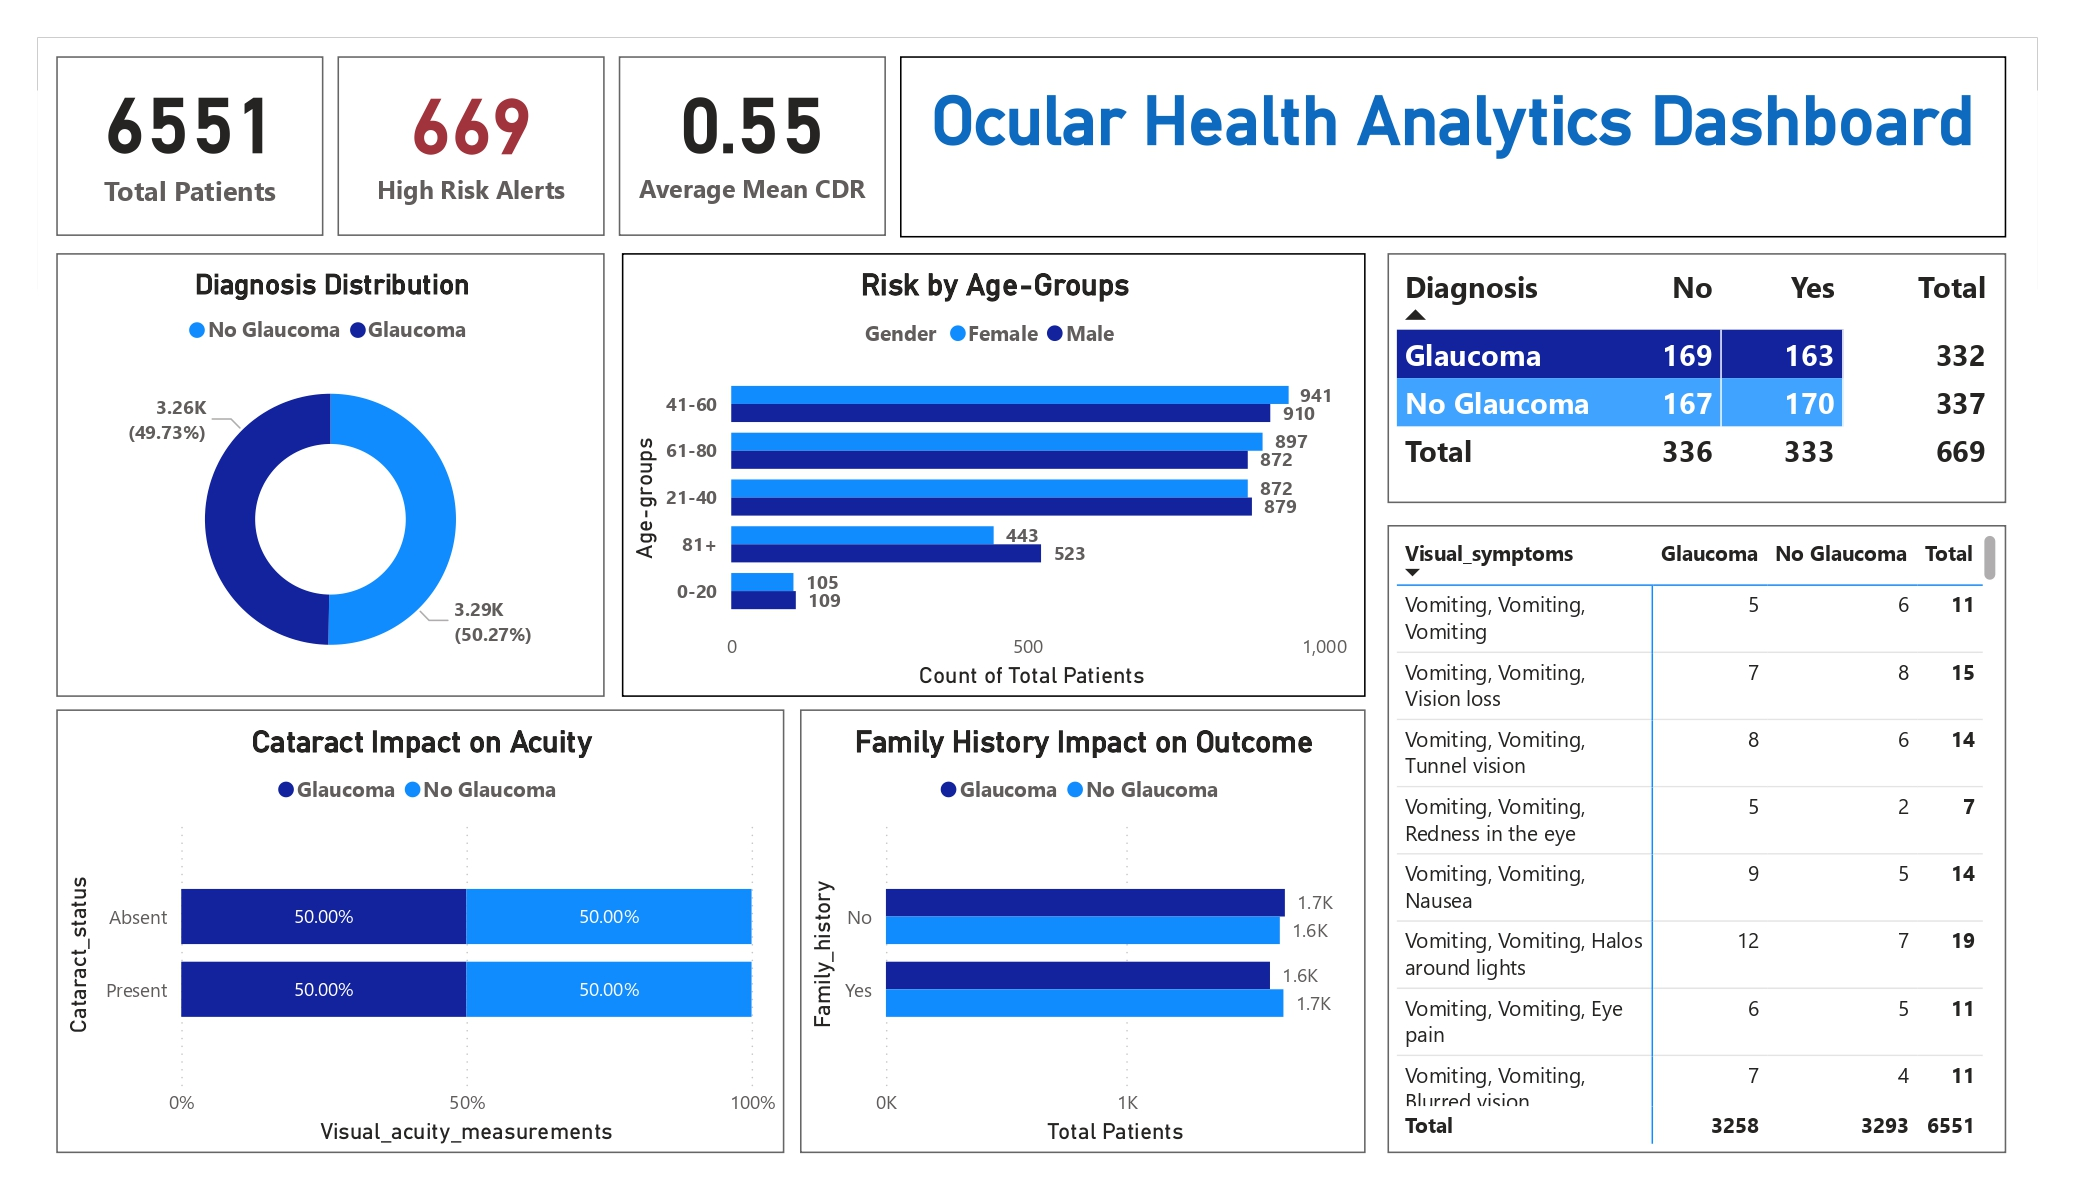

The page's visual inventory and layout, read from the dashboard file:
{"tool":"powerbi","page":{"name":"Page 1","canvas":[1280,720],"ordinal":0},"visuals":[{"type":"card","fields":{"Values":["Count(cleaned_ocular_health_data.patient_id)"]},"box":[11.7,11.7,171.7,115],"z":0},{"type":"card","fields":{"Values":["Avg(cleaned_ocular_health_data.cup-to-disc_ratio_(cdr))"]},"box":[371.7,11.7,171.7,115],"z":1000},{"type":"card","fields":{"Values":["cleaned_ocular_health_data.High Risk Alerts"]},"box":[191.7,11.7,171.7,115],"z":2000},{"type":"donutChart","title":"Diagnosis Distribution","fields":{"Category":["cleaned_ocular_health_data.diagnosis"],"Y":["CountNonNull(cleaned_ocular_health_data.diagnosis)"]},"box":[11.7,138.3,351.7,283.3],"z":3000},{"type":"clusteredBarChart","title":"Risk by Age-Groups","fields":{"Y":["Count(cleaned_ocular_health_data.Total Patients)"],"Category":["cleaned_ocular_health_data.age_group"],"Series":["cleaned_ocular_health_data.gender"]},"box":[374,138,476,284],"z":4000},{"type":"textbox","box":[551.7,11.7,708.3,116.7],"z":5000},{"type":"pivotTable","fields":{"Rows":["cleaned_ocular_health_data.diagnosis"],"Columns":["cleaned_ocular_health_data.family_history"],"Values":["cleaned_ocular_health_data.High Risk Alerts"]},"box":[864,138,396,160],"z":6000},{"type":"pivotTable","fields":{"Rows":["cleaned_ocular_health_data.visual_symptoms"],"Columns":["cleaned_ocular_health_data.diagnosis"],"Values":["Count(cleaned_ocular_health_data.Total Patients)"]},"box":[864,312,396,402],"z":7000},{"type":"hundredPercentStackedBarChart","title":"Cataract Impact on Acuity","fields":{"Category":["cleaned_ocular_health_data.cataract_status"],"Y":["Count(cleaned_ocular_health_data.visual_acuity_measurements)"],"Series":["cleaned_ocular_health_data.diagnosis"]},"box":[12,430,466,284],"z":9000},{"type":"clusteredBarChart","title":"Family History Impact on Outcome","fields":{"Category":["cleaned_ocular_health_data.family_history"],"Y":["CountNonNull(cleaned_ocular_health_data.Total Patients)"],"Series":["cleaned_ocular_health_data.diagnosis"]},"box":[488,430,362,284],"z":10000}]}

Visuals, with their boxes in screenshot pixels (x1, y1, x2, y2):
card - Count(cleaned_ocular_health_data.patient_id): x1=56, y1=56, x2=324, y2=235
card - Avg(cleaned_ocular_health_data.cup-to-disc_ratio_(cdr)): x1=618, y1=56, x2=887, y2=235
card - cleaned_ocular_health_data.High Risk Alerts: x1=337, y1=56, x2=605, y2=235
"Diagnosis Distribution" donutChart: x1=56, y1=254, x2=605, y2=696
"Risk by Age-Groups" clusteredBarChart: x1=622, y1=253, x2=1366, y2=697
textbox: x1=900, y1=56, x2=2006, y2=238
pivotTable - cleaned_ocular_health_data.diagnosis x cleaned_ocular_health_data.family_history: x1=1388, y1=253, x2=2006, y2=503
pivotTable - cleaned_ocular_health_data.visual_symptoms x cleaned_ocular_health_data.diagnosis: x1=1388, y1=525, x2=2006, y2=1153
"Cataract Impact on Acuity" hundredPercentStackedBarChart: x1=56, y1=709, x2=784, y2=1153
"Family History Impact on Outcome" clusteredBarChart: x1=800, y1=709, x2=1366, y2=1153
